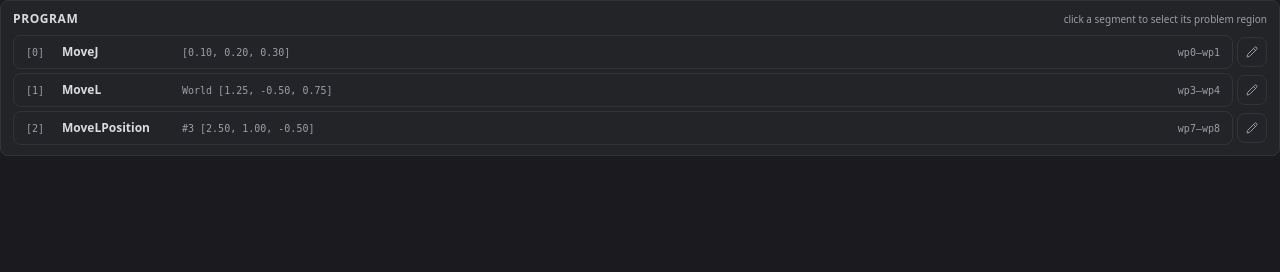
ProgramView — step 3 edit trigger › shows health before→after feedback after the apply
Click the button with test id "program-edit-2": (1252, 128) [1237, 113, 1267, 143]
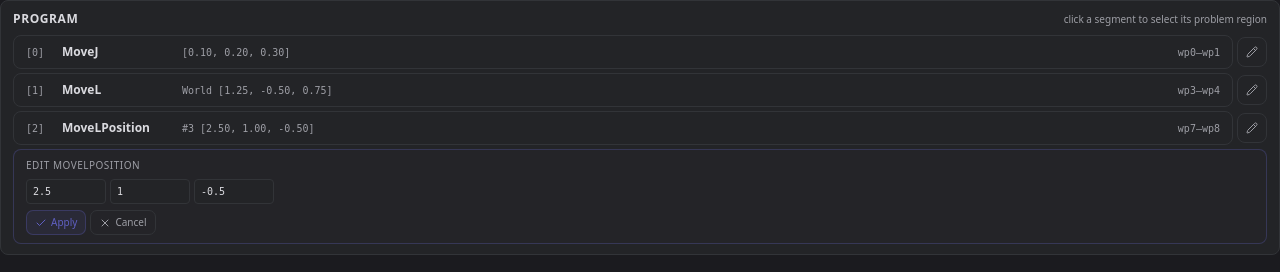
Replace the text in the number field with test id "program-edit-input-2-0" with "3": (66, 192) [26, 179, 106, 204]
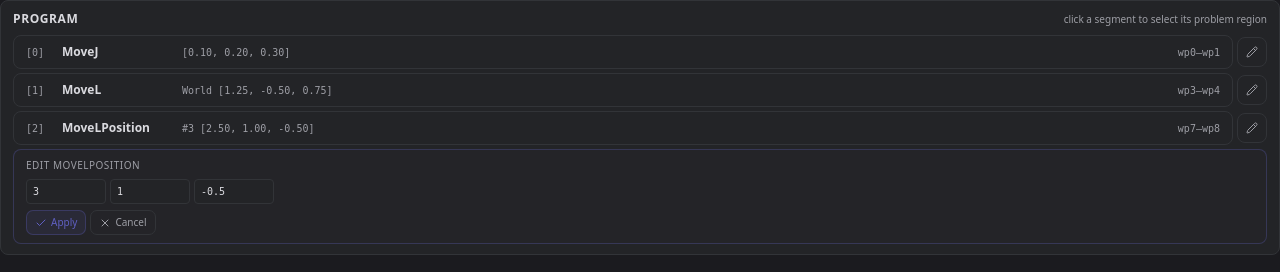
Click the button with test id "program-edit-save-2": (56, 222) [26, 210, 86, 235]
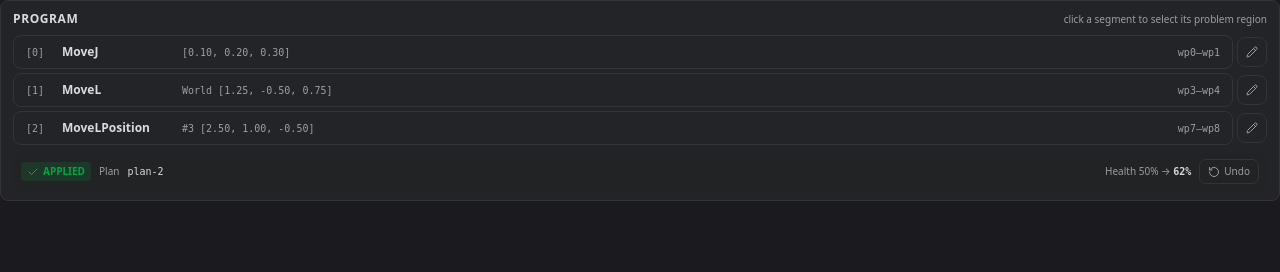
Check: the element with test id "program-edit-feedback" shows "Applied", box [43, 164, 85, 178]
Check: the element with test id "program-edit-feedback" shows "plan-2", box [127, 166, 164, 177]
Check: the element with test id "program-edit-feedback" shows "Health 50% → 62%", box [13, 153, 1267, 190]
